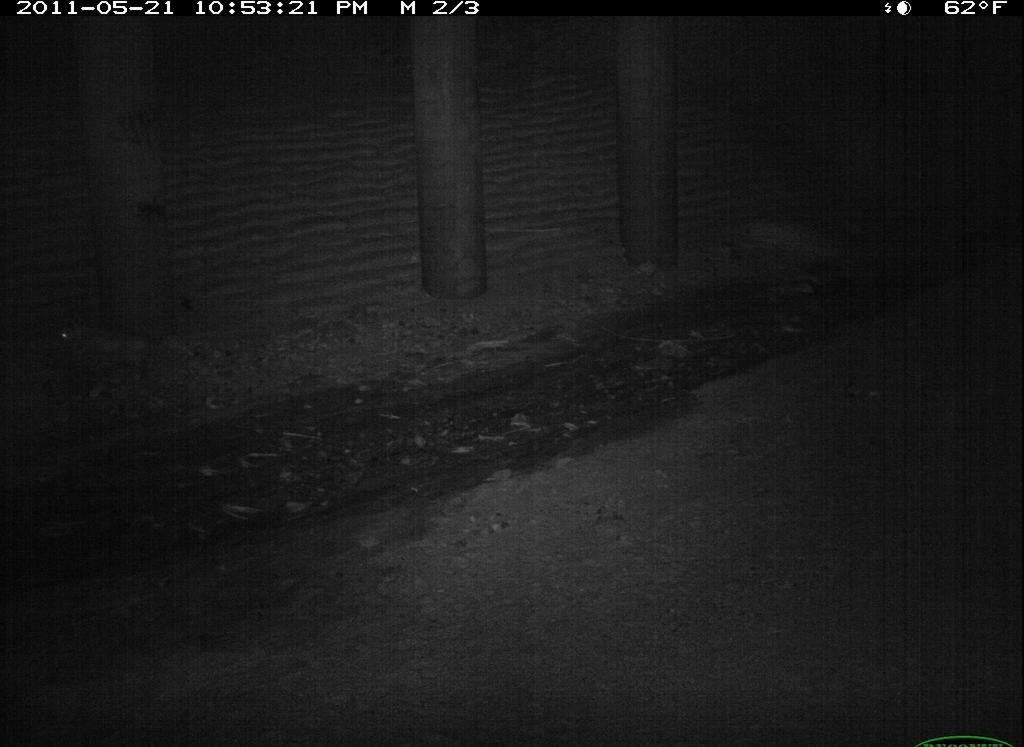bobcat: (108, 633, 355, 747)
